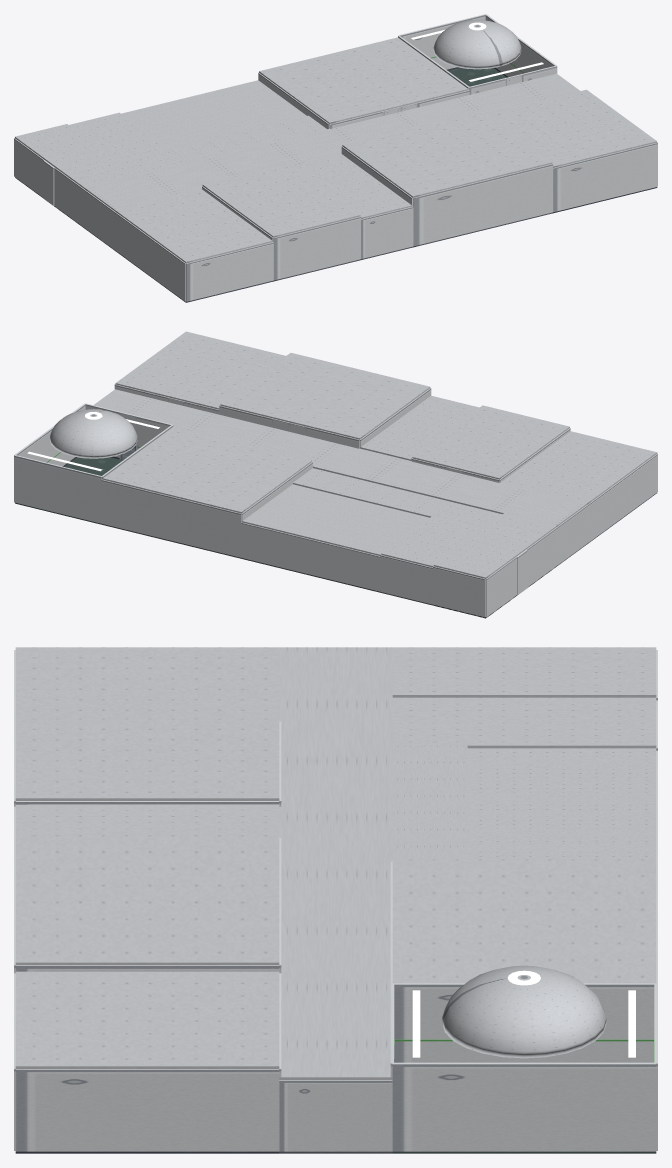
File: habitat_shell_modular_kit.glb
3 renders of one model, top to bottom at view 1: azimuth 30°, elevation 25°; view 2: azimuth 150°, elevation 25°; view 3: azimuth 270°, elevation 25°, orthographic. The views are drawn at different scales.
Visible parts, largest first — view 1: floors_ceilings_ceiling, walls_wall, floors_ceilings_dome, floors_ceilings_floor_gh, floors_ceilings_floor; view 2: floors_ceilings_ceiling, walls_wall, floors_ceilings_dome, floors_ceilings_floor_gh; view 3: floors_ceilings_ceiling, walls_wall, floors_ceilings_dome, floors_ceilings_lp_airlock, floors_ceilings_floor_gh, floors_ceilings_floor_ex.
Part boxes in pixels (box(x1,y1,x2,y2)): floors_ceilings_ceiling: box(15, 37, 656, 263); walls_wall: box(14, 14, 657, 301); floors_ceilings_dome: box(433, 19, 521, 69); floors_ceilings_floor_gh: box(448, 68, 506, 86); floors_ceilings_floor: box(85, 212, 552, 281); floors_ceilings_ceiling: box(93, 331, 657, 578); walls_wall: box(14, 384, 657, 617); floors_ceilings_dome: box(50, 409, 137, 458); floors_ceilings_floor_gh: box(15, 457, 123, 524); floors_ceilings_ceiling: box(15, 647, 656, 1079); walls_wall: box(14, 650, 657, 1151); floors_ceilings_dome: box(442, 965, 606, 1058); floors_ceilings_lp_airlock: box(412, 970, 635, 1057); floors_ceilings_floor_gh: box(392, 1151, 656, 1153); floors_ceilings_floor_ex: box(15, 1151, 279, 1153).
Size of the model in its own units: 33.93 by 5.01 by 21.37.
14 materials, 14 textured.
